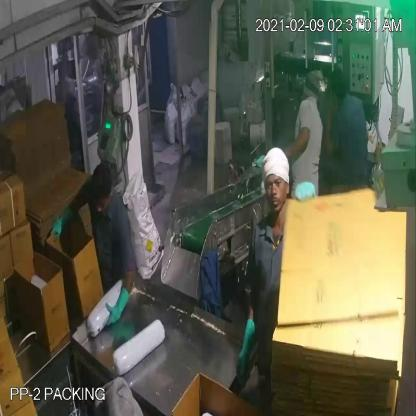glove: (228, 317, 262, 386), (101, 274, 133, 328), (48, 200, 77, 245)
no_glove: (274, 125, 314, 164)
